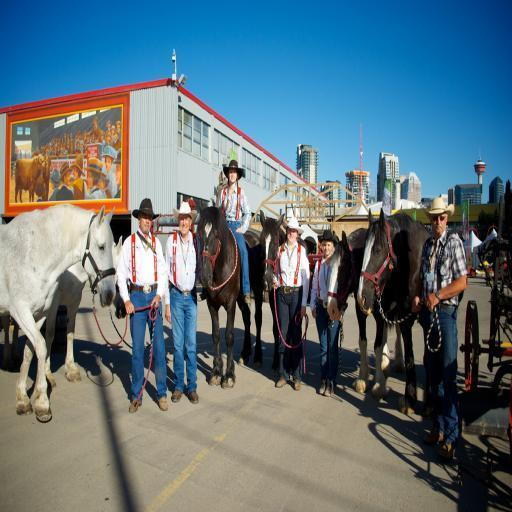horse: (0, 199, 119, 423), (354, 204, 466, 418), (0, 234, 128, 382), (327, 226, 407, 398), (198, 200, 266, 386), (260, 204, 310, 377)
